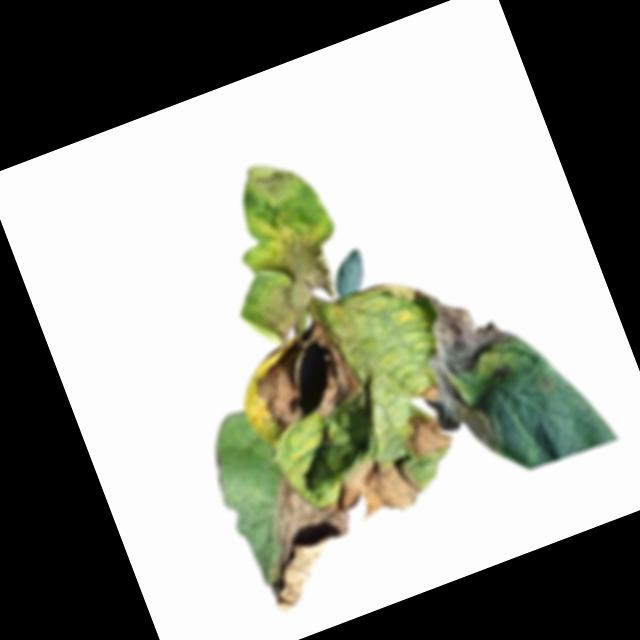Late_blight: (233, 456, 375, 616), (240, 313, 370, 440), (236, 217, 351, 348), (410, 347, 504, 468), (416, 272, 520, 379), (311, 444, 426, 536), (240, 147, 314, 218), (396, 404, 458, 465)
